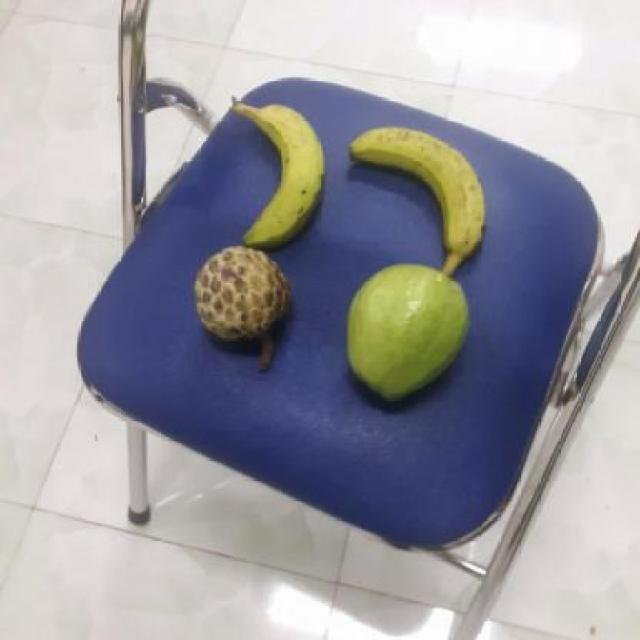banana: (353, 126, 492, 259), (232, 102, 332, 246)
guava: (344, 267, 476, 398)
sugar apple: (192, 244, 297, 348)
